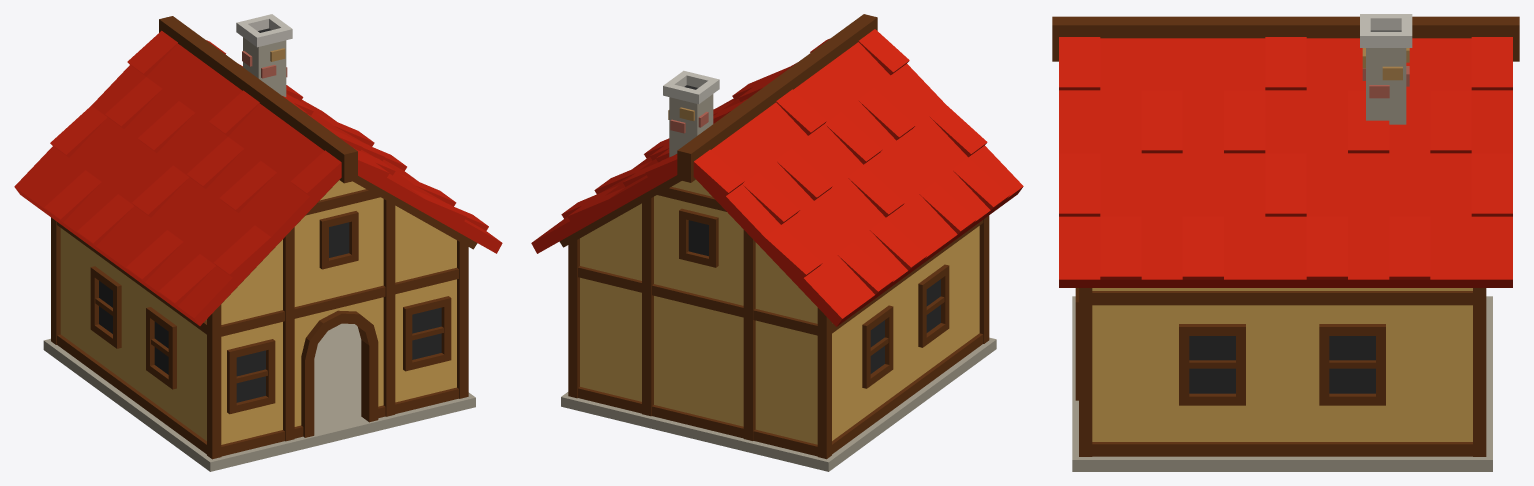
File: House_01.fbx
3 views of the same model, side by side, from view 1: azimuth 30°, elevation 25°; view 2: azimuth 150°, elevation 25°; view 3: azimuth 270°, elevation 25° (orthographic). The views are drawn at different scales.
Parts seen in each view (by area): view 1: House_01; view 2: House_01; view 3: House_01.
Part boxes in pixels (x1,y1,x2,y2): House_01: (14, 14, 502, 471); House_01: (531, 14, 1023, 471); House_01: (1052, 14, 1519, 471).
Bounding box in the file's own units: 686 × 650 × 700.
1 material, 1 textured.
